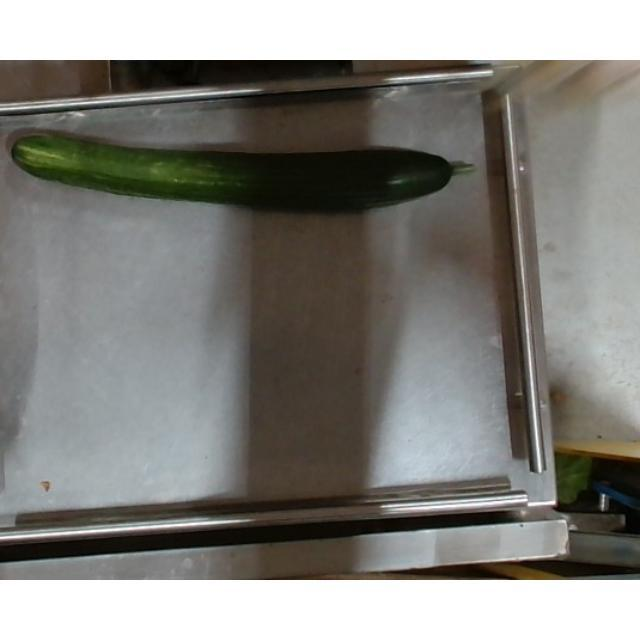cucumber: (11, 126, 476, 216)
